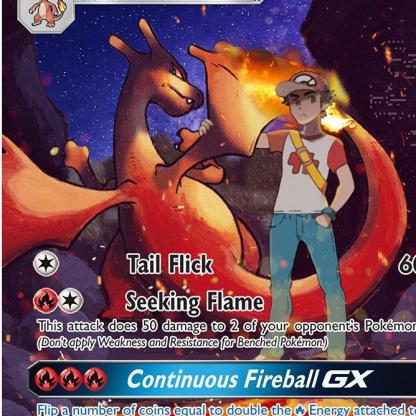Charizard: (47, 20, 272, 326)
